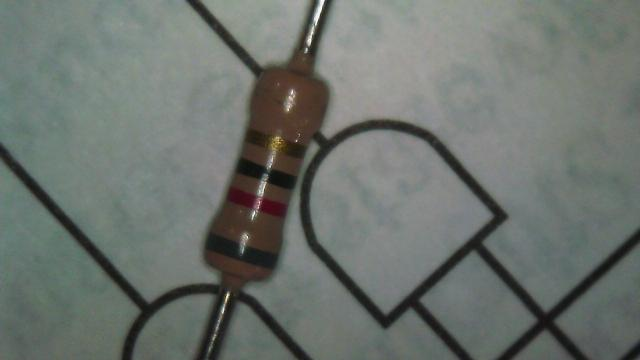black: (237, 159, 296, 189)
gold: (245, 129, 305, 159)
grey: (206, 233, 279, 268)
red: (226, 187, 286, 218)
resistor: (177, 24, 370, 307)
